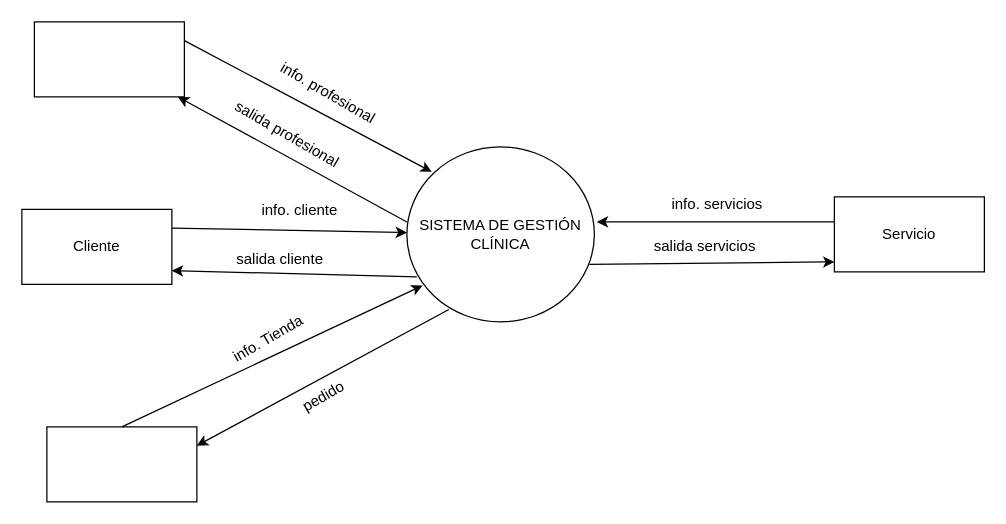
This 1006x524 diagram has some shape labels left out. The centre of each missing label's shape, as x and y in pixels:
Profesional: (108,59)
Proveedor: (121,464)
